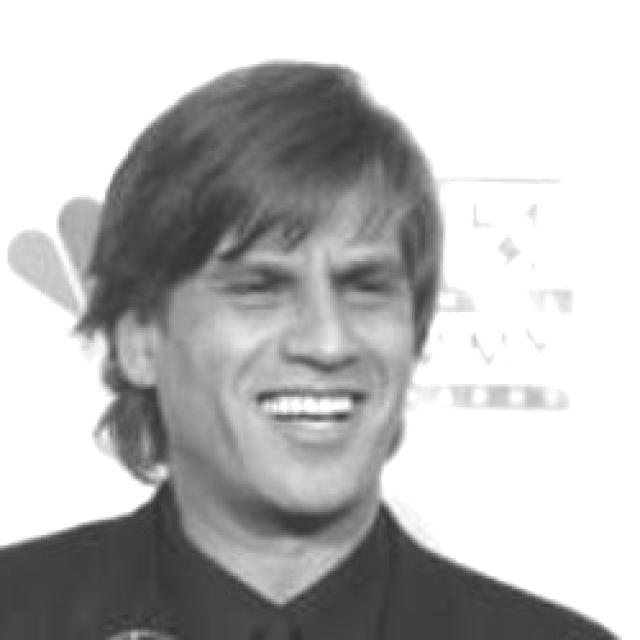real: (151, 158, 422, 516), (204, 254, 416, 316)
